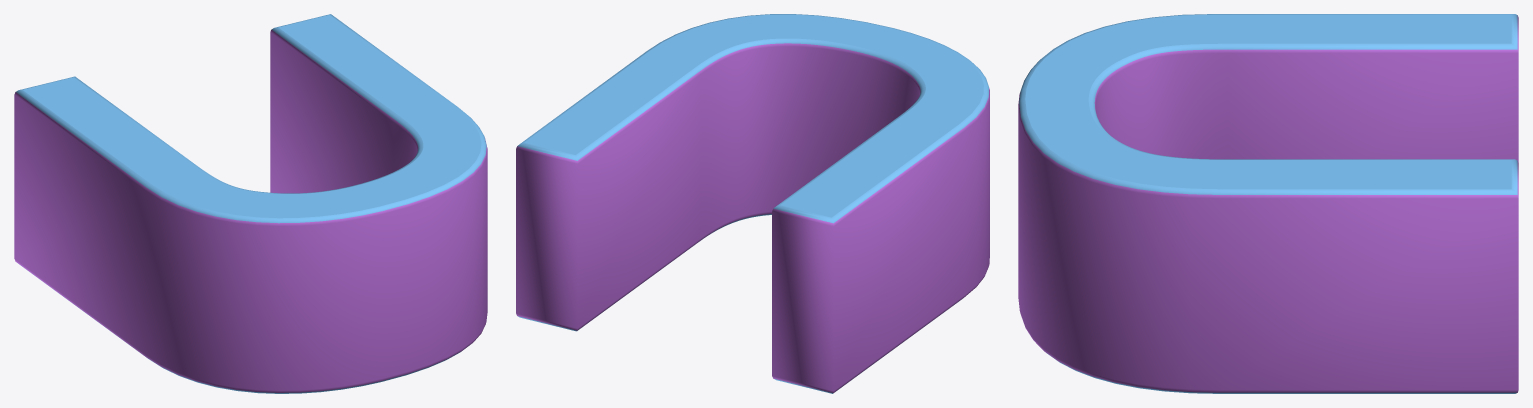
Rendered from letter_U.fbx.
The picture shows the model from 3 angles, left to right: view 1: azimuth 30°, elevation 25°; view 2: azimuth 150°, elevation 25°; view 3: azimuth 270°, elevation 25°; orthographic projection. The views are drawn at different scales.
Visible parts, largest first — view 1: Letter_U; view 2: Letter_U; view 3: Letter_U.
Part boxes in pixels (<box>): Letter_U: <box>14,14,487,393</box>; Letter_U: <box>516,14,989,393</box>; Letter_U: <box>1018,14,1518,393</box>.
Bounding box in the file's own units: 60.7 × 32 × 71.1.
